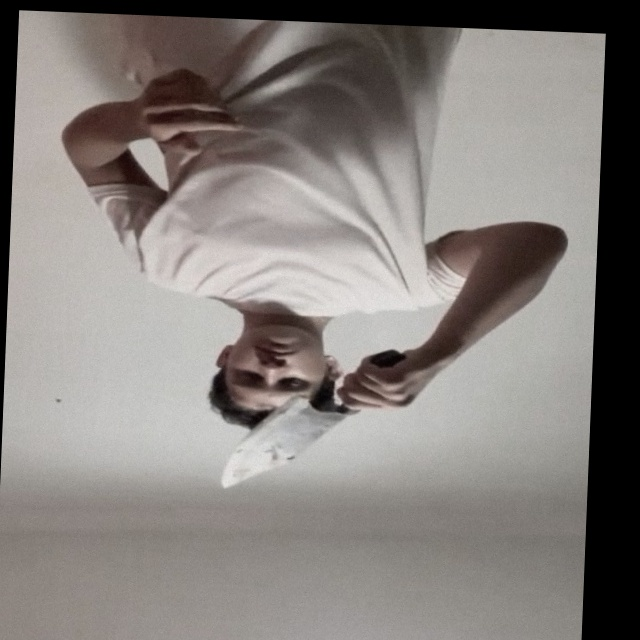Sharp-Object: (219, 400, 349, 494)
